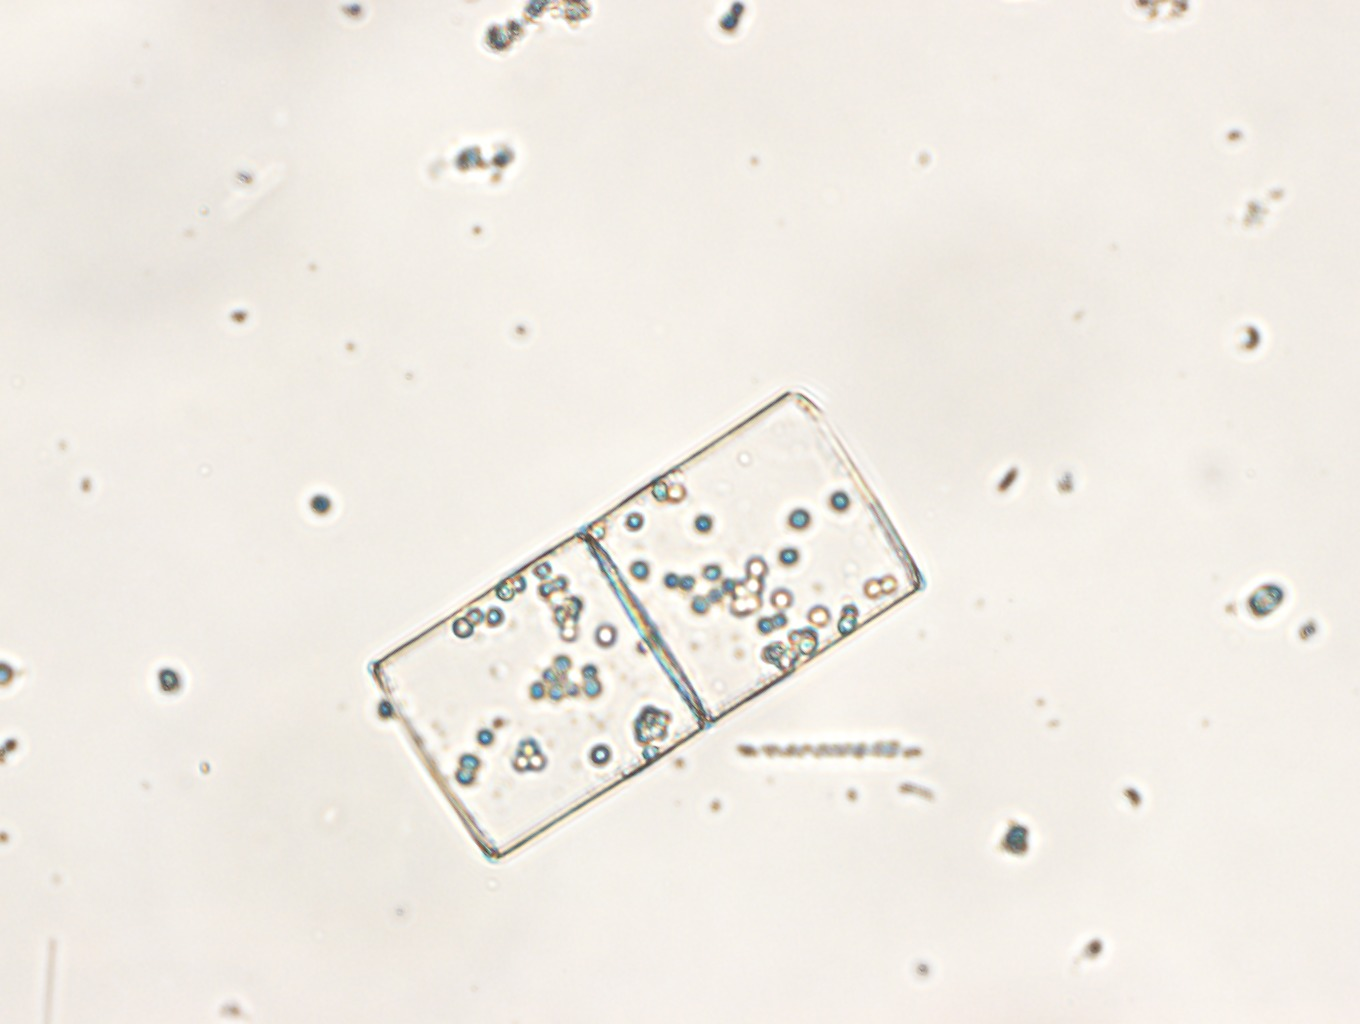guinardia flaccida: (369, 389, 926, 862)
